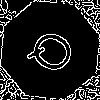Q: (25, 25, 86, 82)
